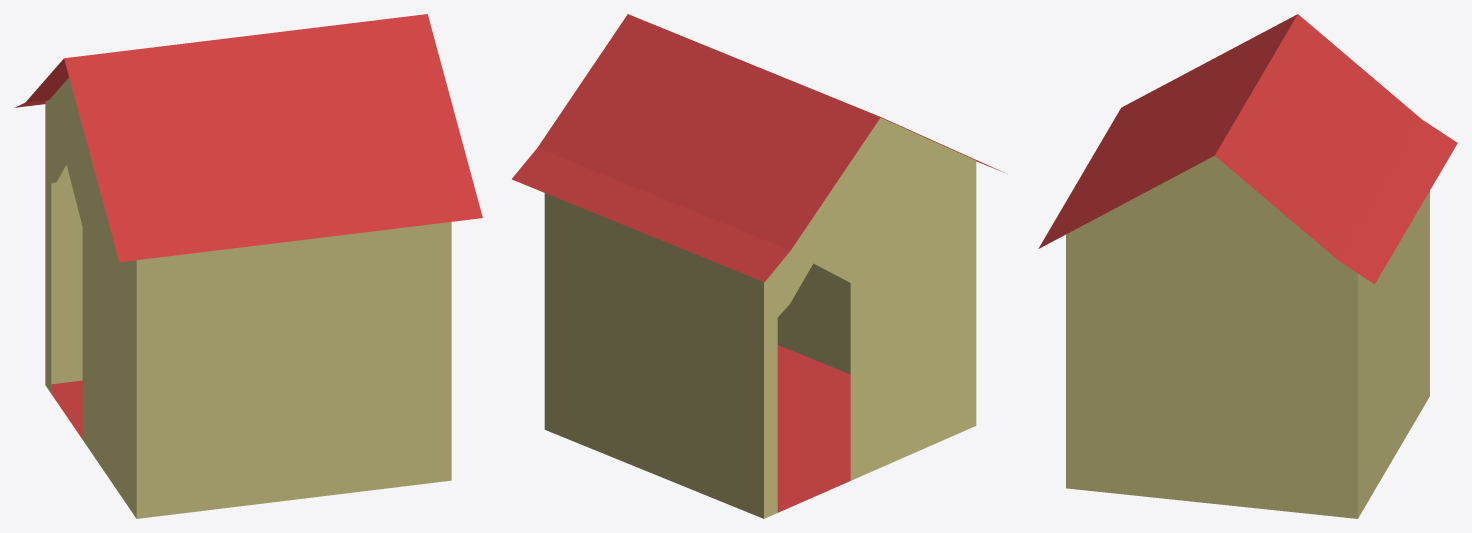
3 renders of one model, left to right at view 1: azimuth 30°, elevation 25°; view 2: azimuth 150°, elevation 25°; view 3: azimuth 270°, elevation 25°, orthographic. The views are drawn at different scales.
Bounding box in the file's own units: 18.16 × 18.21 × 17.15.
